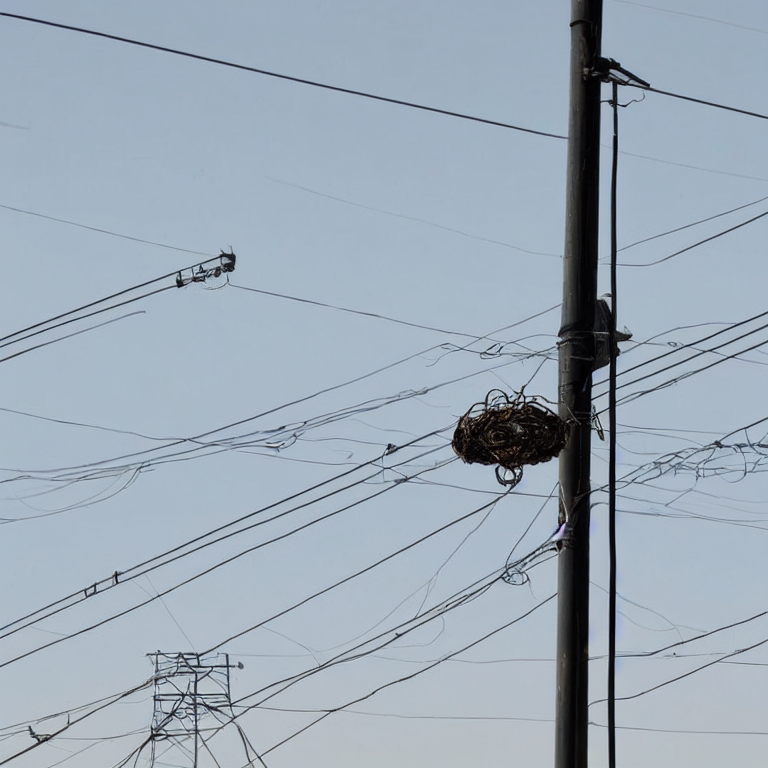nest: (453, 402, 561, 467)
